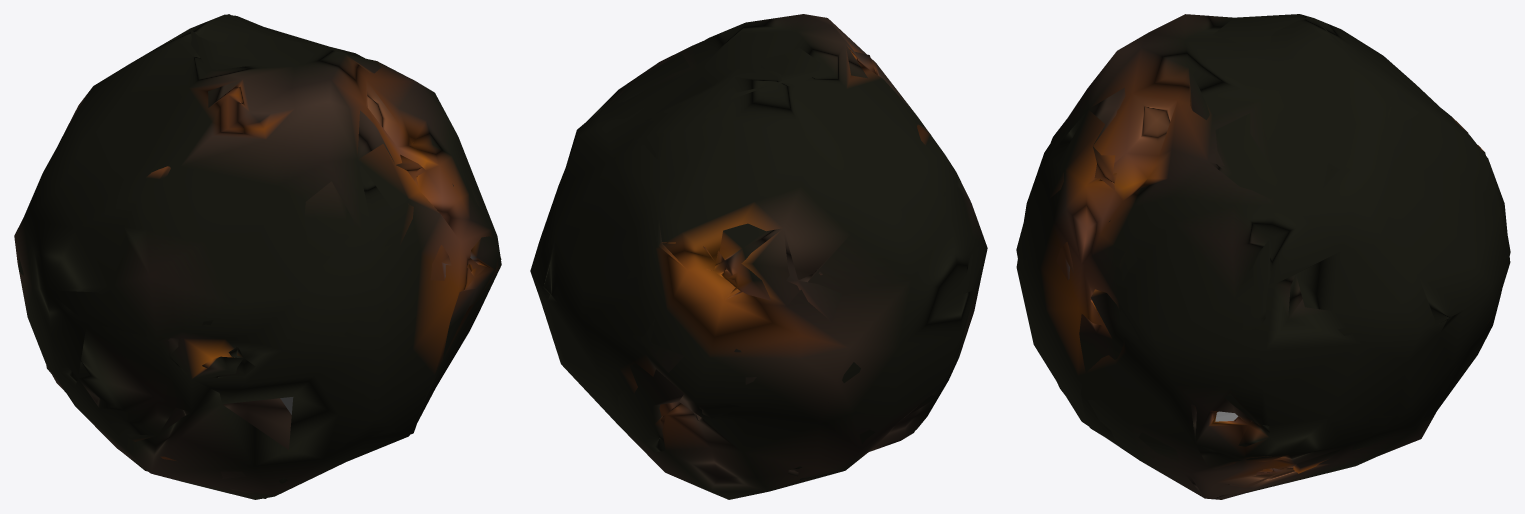
Rendered from gen3d-meteorite-lod0.glb.
The picture shows the model from 3 angles, left to right: view 1: azimuth 30°, elevation 25°; view 2: azimuth 150°, elevation 25°; view 3: azimuth 270°, elevation 25°; orthographic projection. The views are drawn at different scales.
Parts seen in each view (by area): view 1: part_0; view 2: part_0; view 3: part_0.
Part boxes in pixels (box(x1,y1,x2,y2)): part_0: box(14, 14, 501, 499); part_0: box(530, 14, 987, 499); part_0: box(1016, 14, 1510, 499).
Bounding box in the file's own units: 1.02 × 1 × 1.03.
